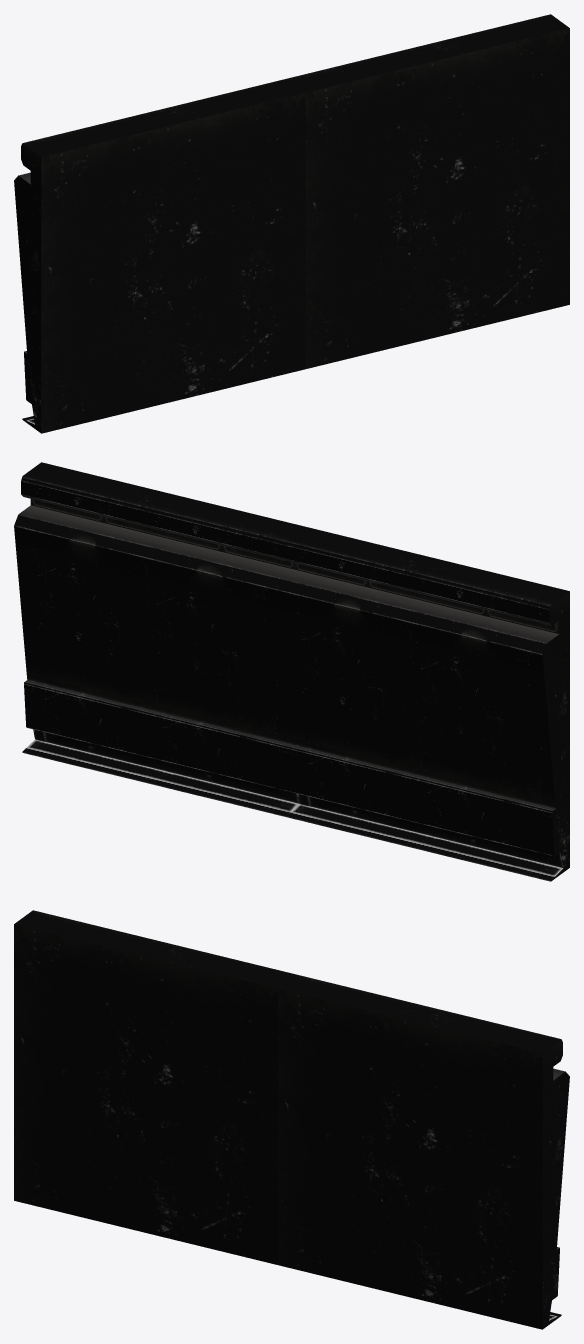
The model's file is SM_Wall_Double_A.FBX.
3 renders of one model, top to bottom at view 1: azimuth 30°, elevation 25°; view 2: azimuth 150°, elevation 25°; view 3: azimuth 330°, elevation 25°, orthographic.
Visible parts, largest first — view 1: SM_Wall_Double_A; view 2: SM_Wall_Double_A; view 3: SM_Wall_Double_A.
Part boxes in pixels (<box>): SM_Wall_Double_A: <box>14,14,569,433</box>; SM_Wall_Double_A: <box>14,462,569,881</box>; SM_Wall_Double_A: <box>14,910,569,1329</box>.
Bounding box in the file's own units: 800 × 400 × 71.98.
Materials: 1 (1 with a texture image).
